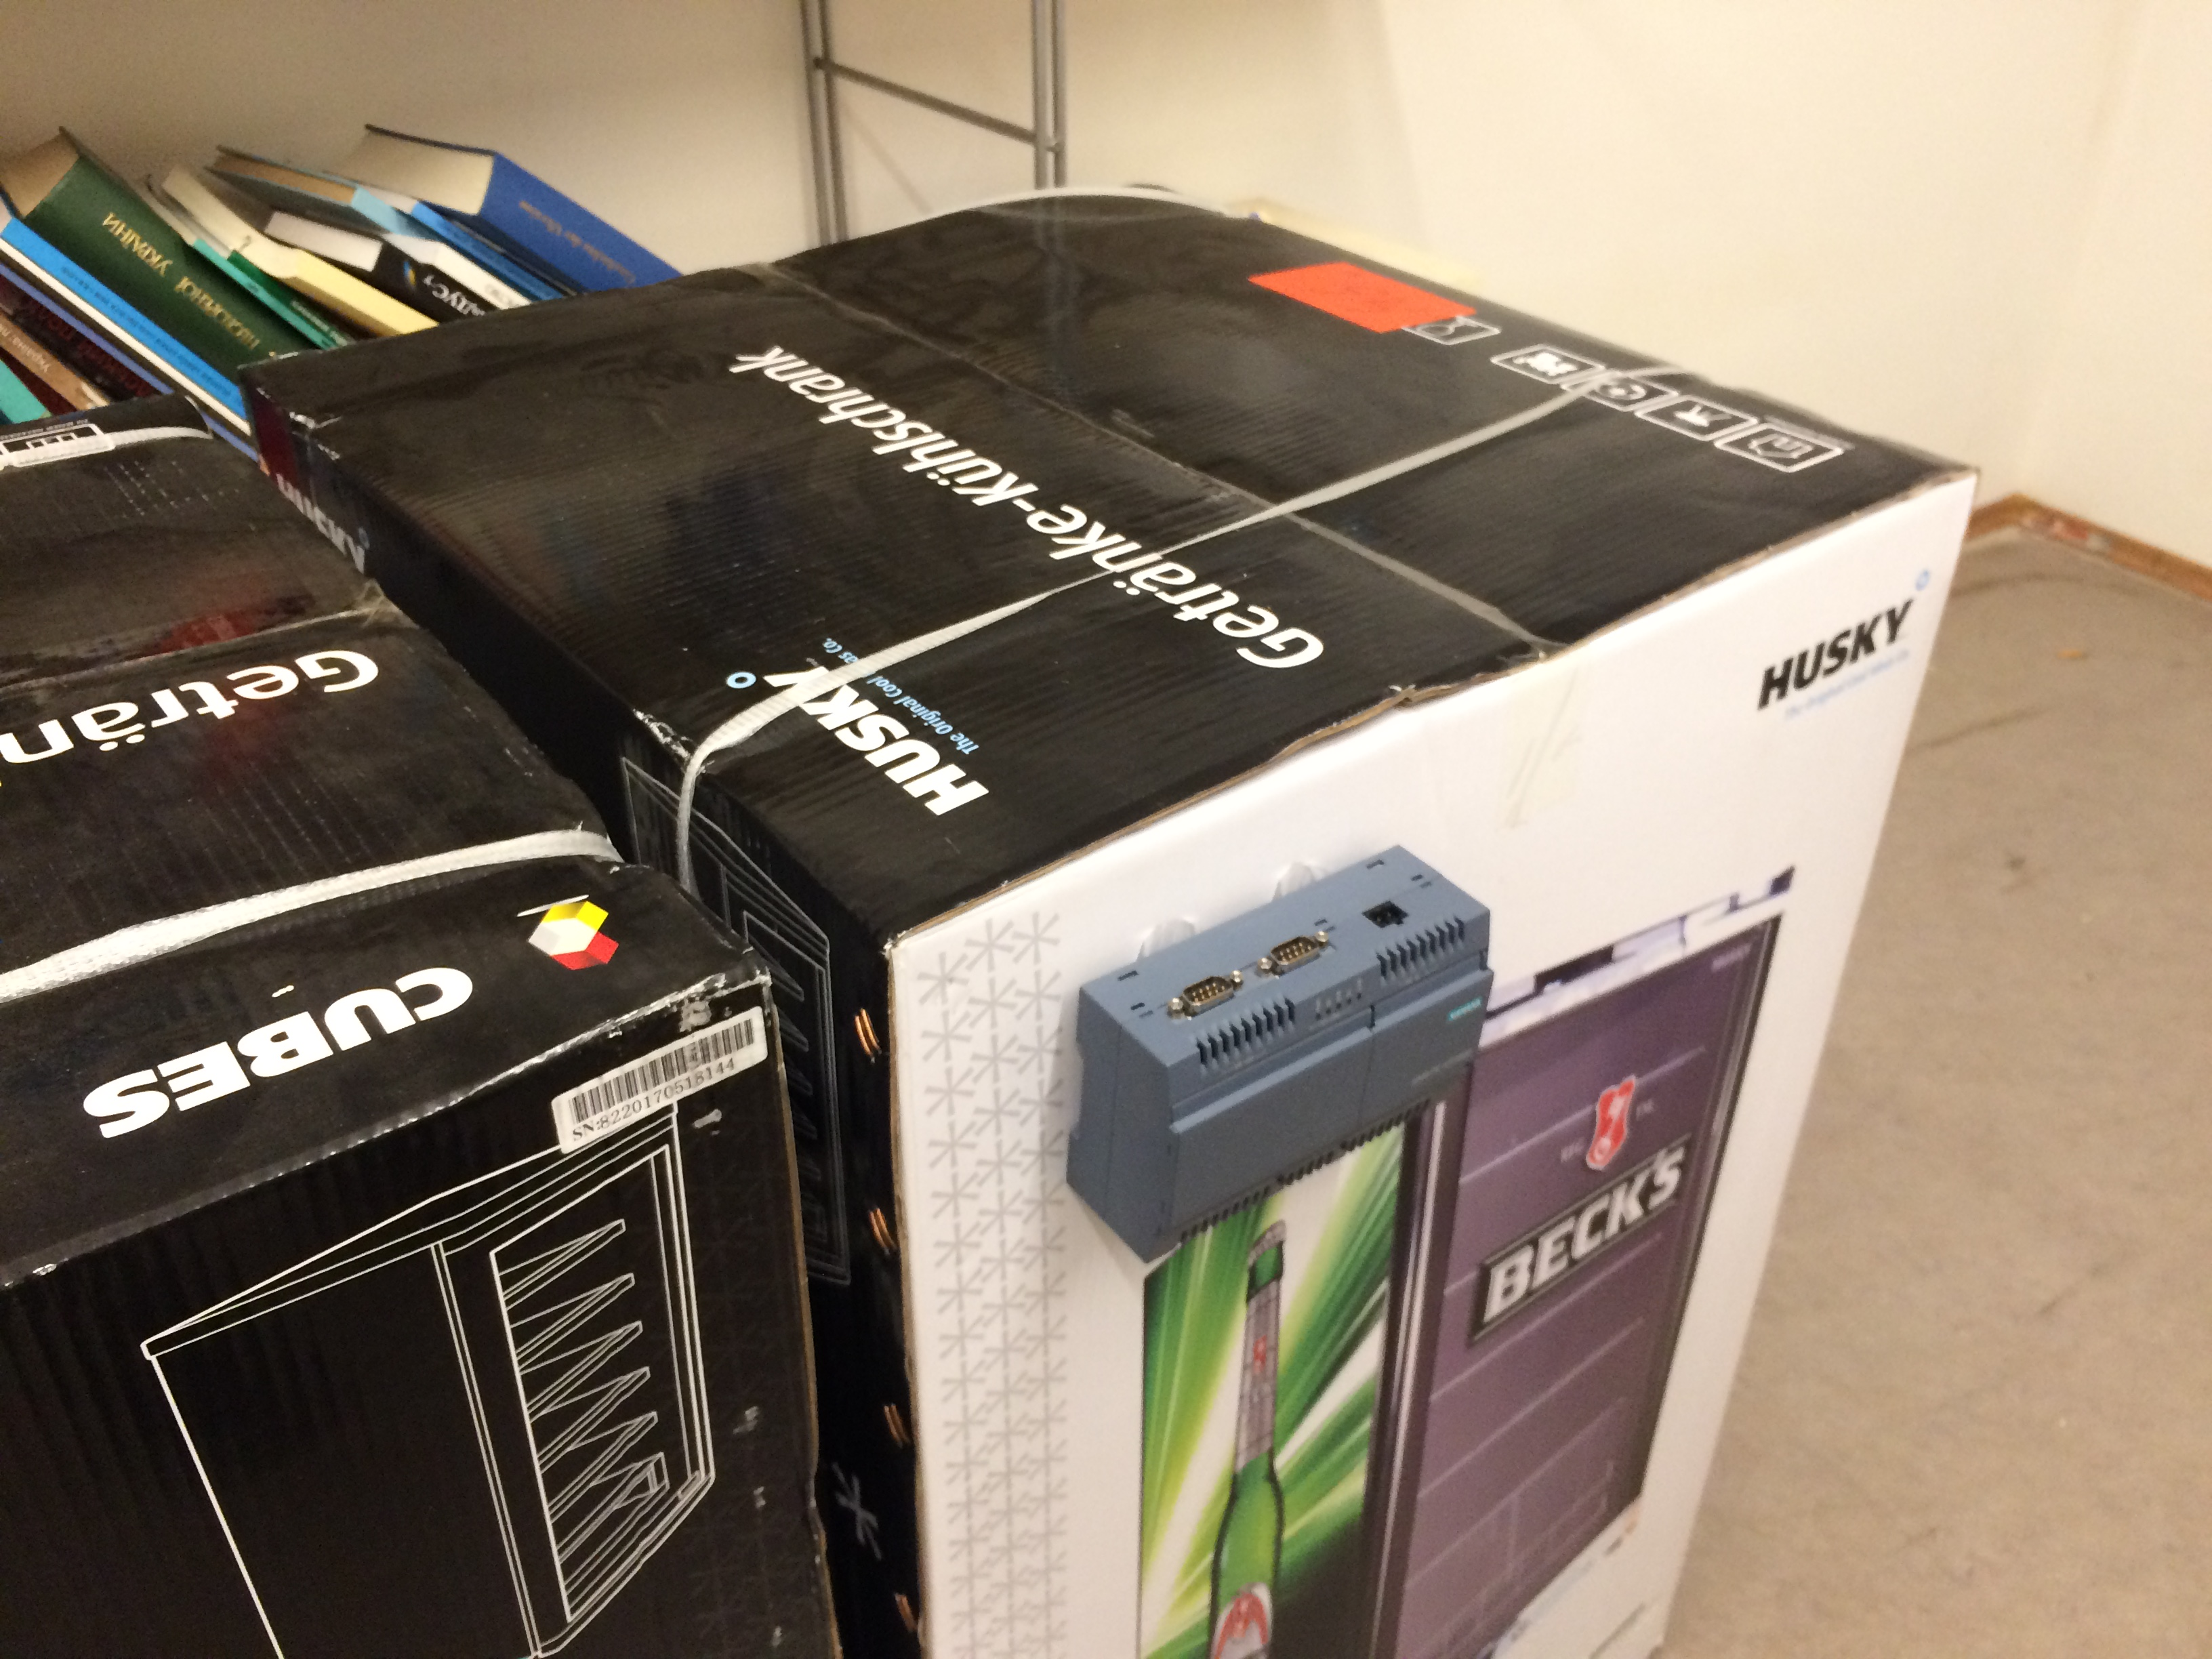iot2000: (1062, 842, 1500, 1269)
